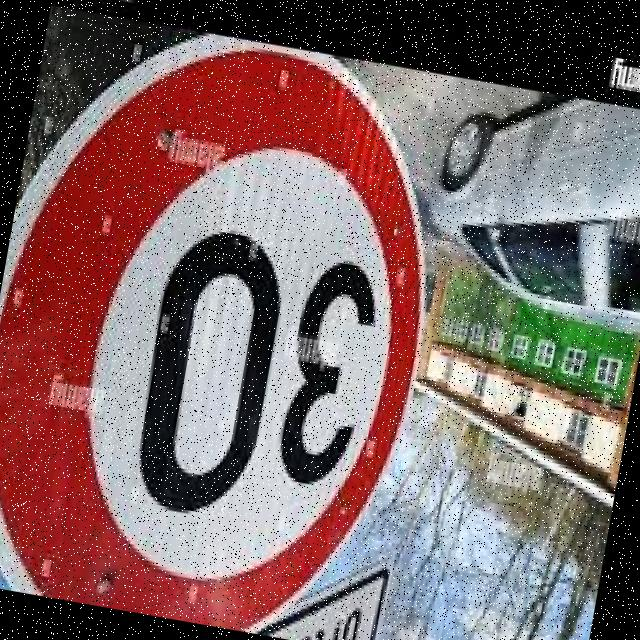speed_limit_30: (0, 5, 473, 640)
